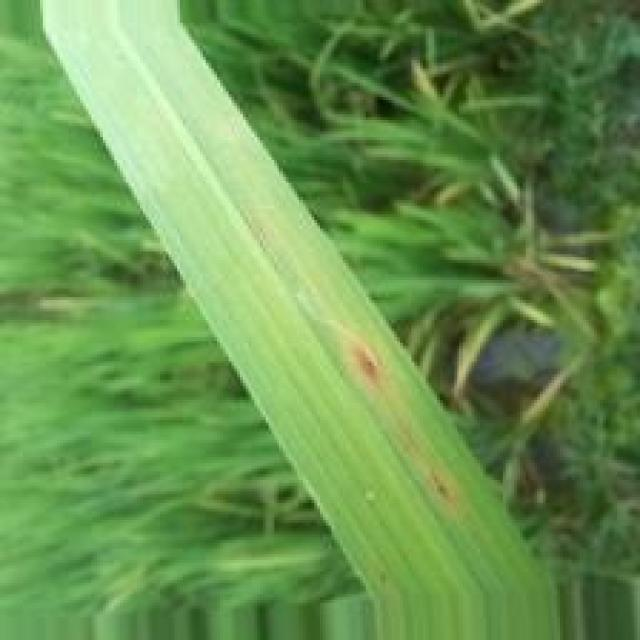Brown_Spot: (340, 333, 386, 389), (423, 465, 461, 508)
